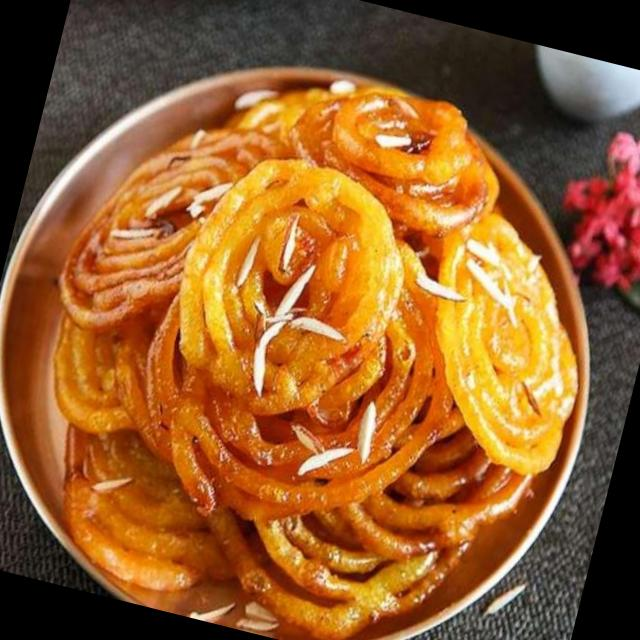jalebi: (0, 27, 640, 640)
